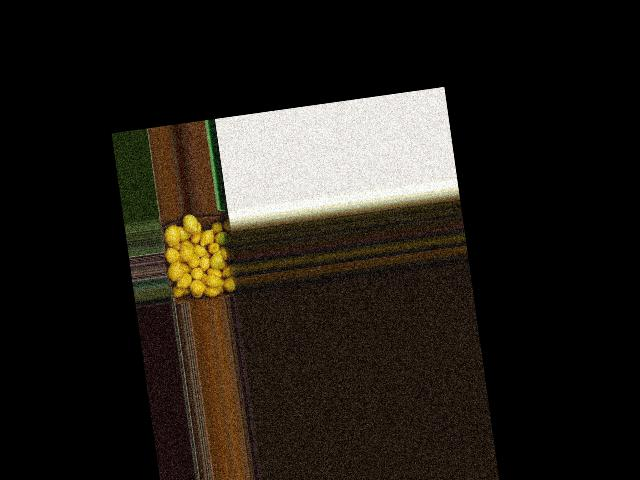lemon: (193, 244, 207, 257)
